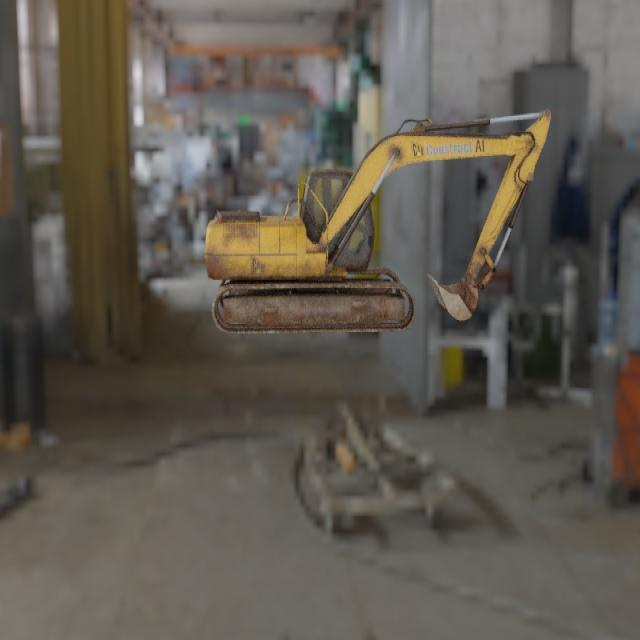excavator: (204, 108, 551, 333)
